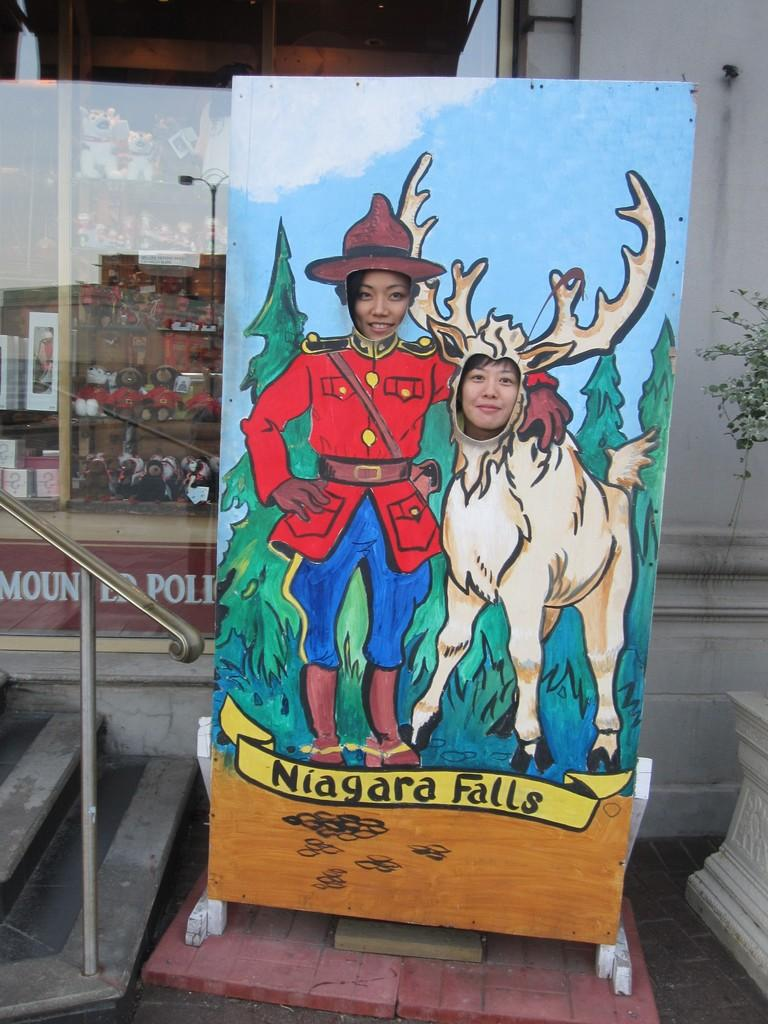Hat: (306, 188, 445, 286)
